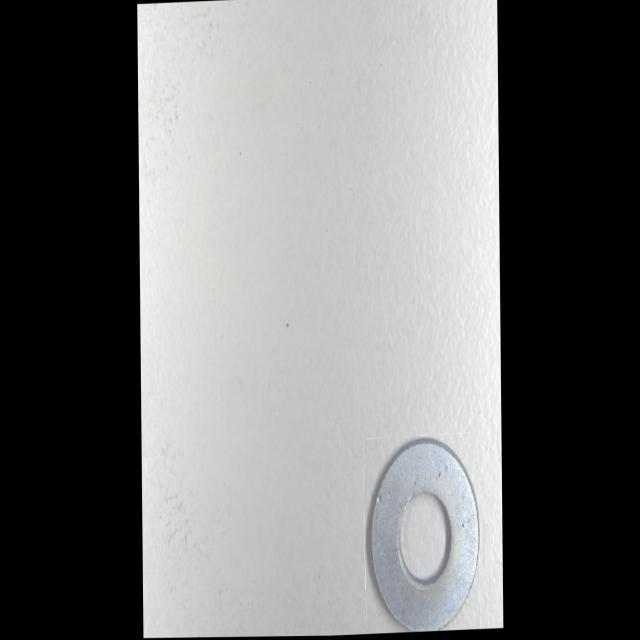washer: (365, 437, 478, 633)
